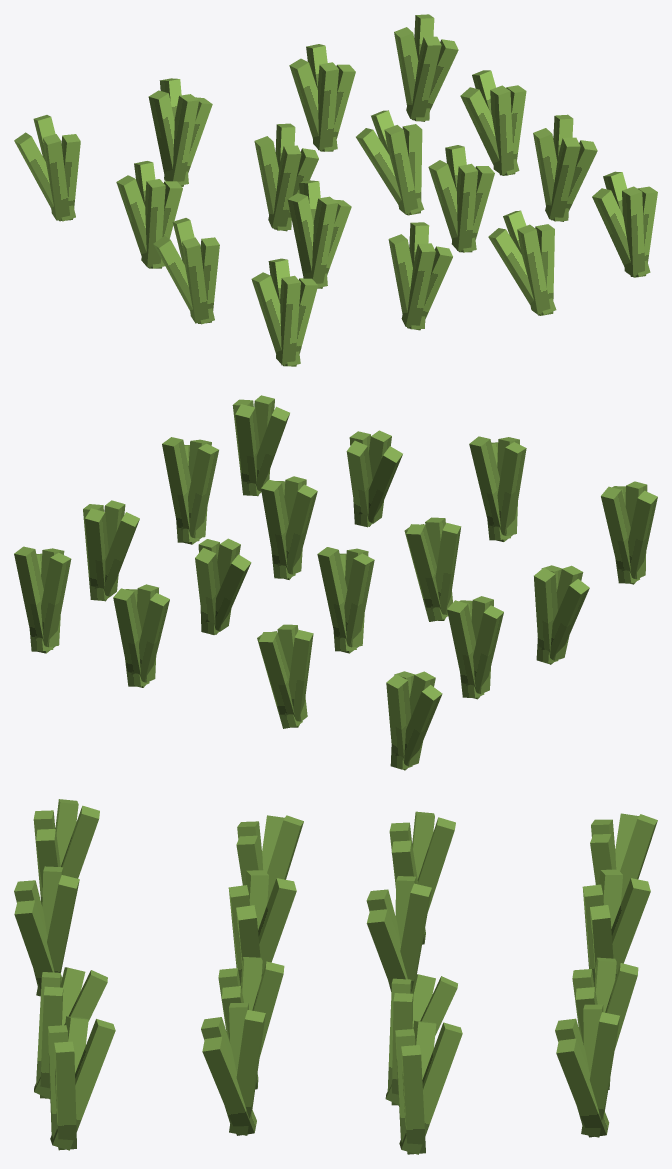
The model's file is LilPszenica.gltf.
The picture shows the model from 3 angles, top to bottom: view 1: azimuth 30°, elevation 25°; view 2: azimuth 150°, elevation 25°; view 3: azimuth 270°, elevation 25°; orthographic projection. The views are drawn at different scales.
Parts seen in each view (by area): view 1: BladeF (×16), BladeL (×16), BladeR (×16), BladeB (×16); view 2: BladeB (×16), BladeL (×16), BladeF (×12); view 3: BladeB (×16), BladeR (×16), BladeL (×16), BladeF (×11).
Part boxes in pixels (<box>): BladeF (×16): <box>42,36,644,364</box>; BladeL (×16): <box>14,27,630,353</box>; BladeR (×16): <box>58,39,657,366</box>; BladeB (×16): <box>33,14,650,366</box>; BladeB (×16): <box>14,404,636,770</box>; BladeL (×16): <box>34,406,657,765</box>; BladeF (×12): <box>104,395,647,766</box>; BladeB (×16): <box>34,805,657,1154</box>; BladeR (×16): <box>14,829,616,1154</box>; BladeL (×16): <box>42,799,638,1119</box>; BladeF (×11): <box>14,810,603,1142</box>.
Size of the model in its own units: 0.8297 by 0.2289 by 0.8666.
Materials: 1 (1 with a texture image).
